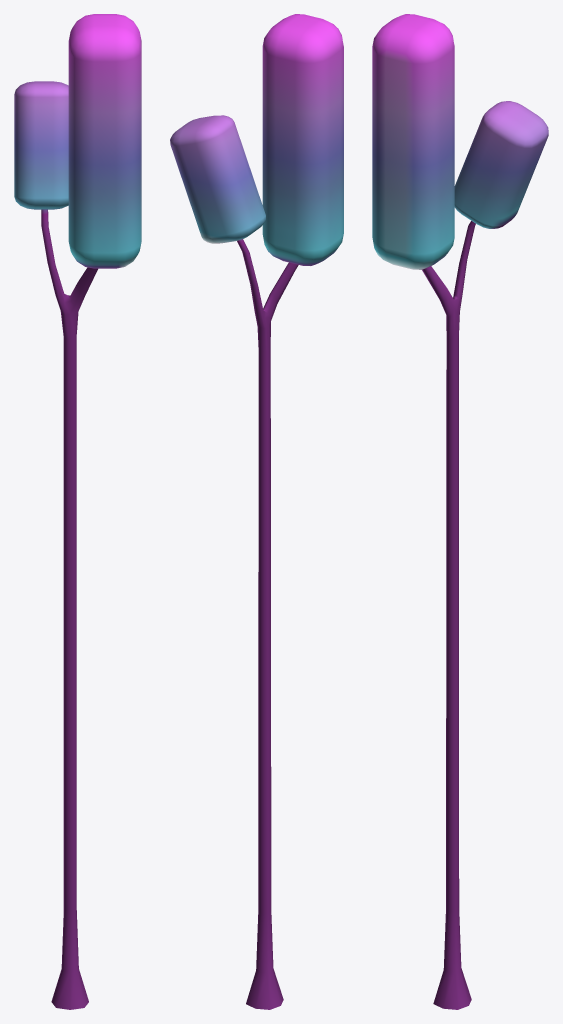
Rendered from Tree07.fbx.
3 views of the same model, side by side, from view 1: azimuth 90°, elevation 25°; view 2: azimuth 150°, elevation 25°; view 3: azimuth 330°, elevation 25° (orthographic).
Visible parts, largest first — view 1: Tree07; view 2: Tree07; view 3: Tree07.
Part boxes in pixels (left/top/right/bottom): Tree07: left=14, top=14, right=141, bottom=1009; Tree07: left=170, top=14, right=343, bottom=1009; Tree07: left=372, top=14, right=548, bottom=1009.
Bounding box in the file's own units: 695 × 5026 × 585.
